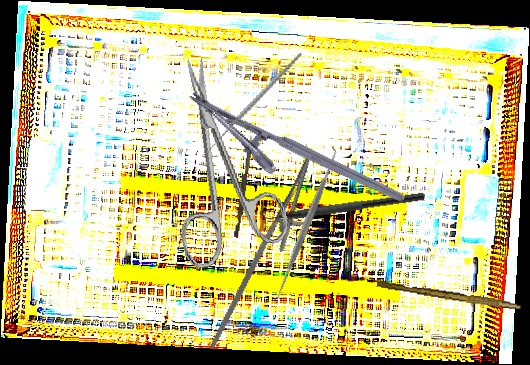Chopper: (250, 180, 427, 228)
Hook Surgical: (188, 51, 323, 160)
Iris Scissors: (145, 45, 294, 272)
Needle Holder: (173, 89, 407, 233), (208, 144, 328, 365)
Pusher: (233, 134, 254, 239)
Scalpel Handle: (376, 279, 522, 311)
Spatula Surgical: (268, 144, 346, 302)
